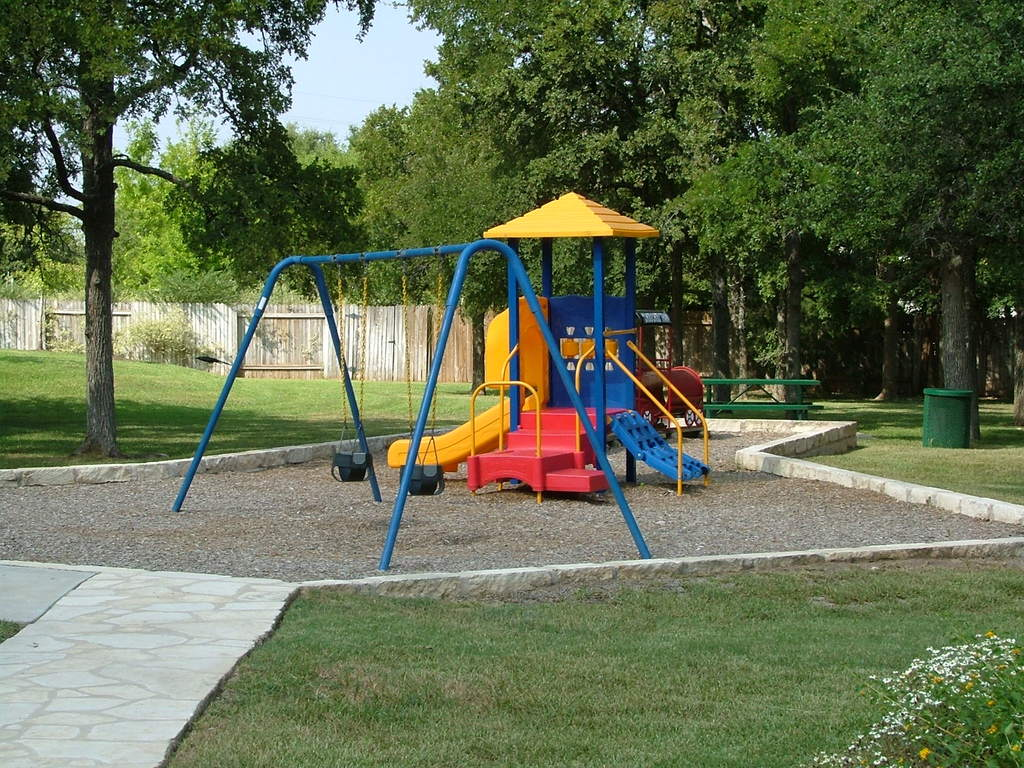Tree: (0, 0, 1024, 461)
